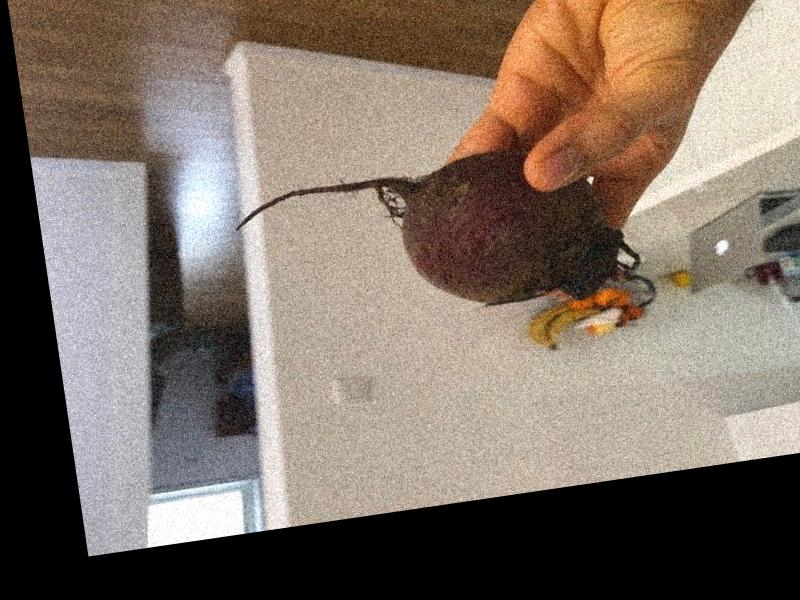Beet: (229, 134, 642, 345)
